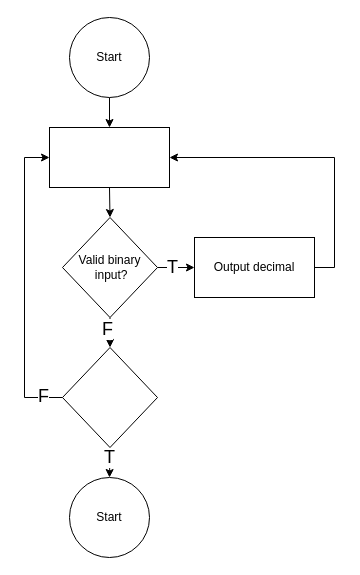
Some shapes in this 360 by 575 pixel diagram are drawn without their labels. The shapes that lost their labels are listed below. From the top down, each one's box as (x1, y1, x2, y2) in pixels, then its label:
(48, 126, 170, 188): Get user input
(62, 346, 158, 448): Quit?
